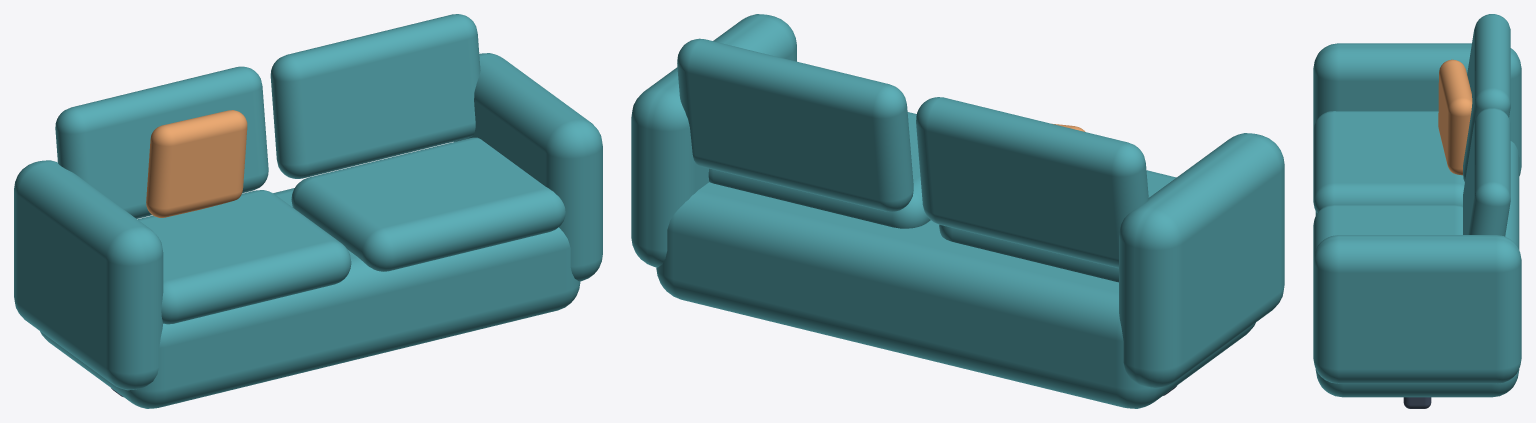
File: sofa.glb
The picture shows the model from 3 angles, left to right: view 1: azimuth 30°, elevation 25°; view 2: azimuth 150°, elevation 25°; view 3: azimuth 270°, elevation 25°; orthographic projection. The views are drawn at different scales.
Parts seen in each view (by area): view 1: sofa; view 2: sofa; view 3: sofa.
Boxes of the visible parts, bbox=[...] form: sofa: bbox=[14, 14, 602, 408]; sofa: bbox=[631, 14, 1284, 408]; sofa: bbox=[1313, 14, 1521, 408].
Size of the model in its own units: 2.2 by 1.09 by 0.9.
